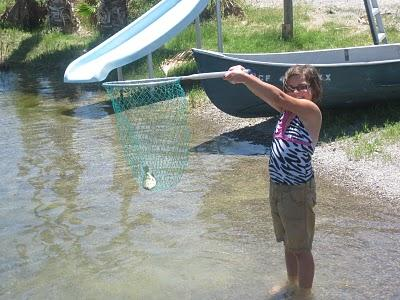person: (224, 65, 324, 290)
